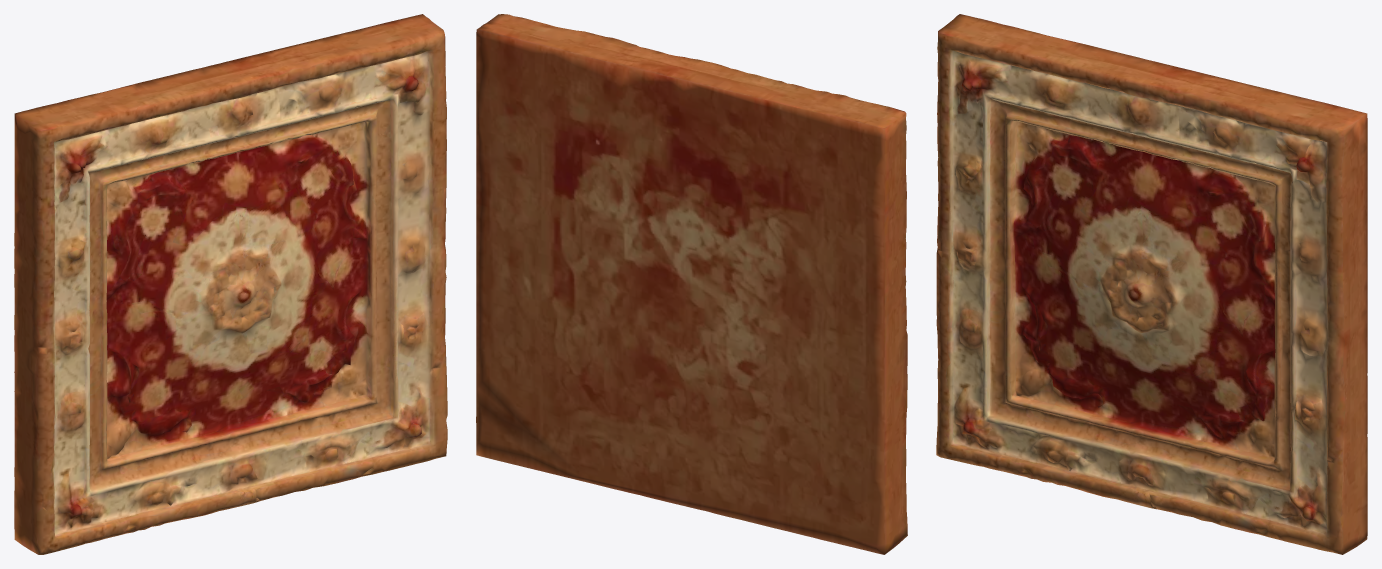
File: 09_persian_rug.glb
The picture shows the model from 3 angles, left to right: view 1: azimuth 30°, elevation 25°; view 2: azimuth 150°, elevation 25°; view 3: azimuth 330°, elevation 25°; orthographic projection.
Visible parts, largest first — view 1: geometry_0; view 2: geometry_0; view 3: geometry_0.
Boxes of the visible parts, x1,y1,x2,y2 form: geometry_0: [14, 14, 447, 554]; geometry_0: [476, 14, 907, 554]; geometry_0: [936, 14, 1367, 554].
Size of the model in its own units: 1.89 by 1.89 by 0.2369.
1 material, 1 textured.
